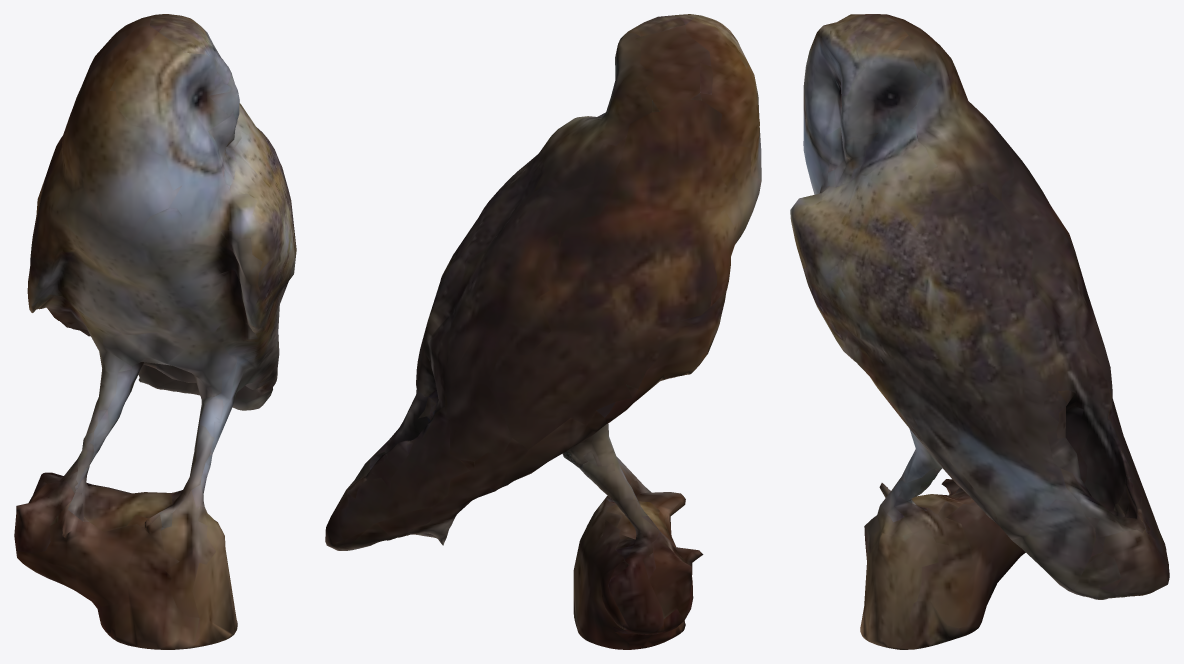
Rendered from realowl.glb.
3 renders of one model, left to right at view 1: azimuth 30°, elevation 25°; view 2: azimuth 150°, elevation 25°; view 3: azimuth 270°, elevation 25°, orthographic. The views are drawn at different scales.
Parts seen in each view (by area): view 1: material0-material; view 2: material0-material; view 3: material0-material.
Boxes of the visible parts, x1,y1,x2,y2 form: material0-material: (14,14,296,649); material0-material: (325,14,761,649); material0-material: (790,14,1169,649).
Bounding box in the file's own units: 0.2296 × 0.45 × 0.2615.
1 material, 1 textured.
